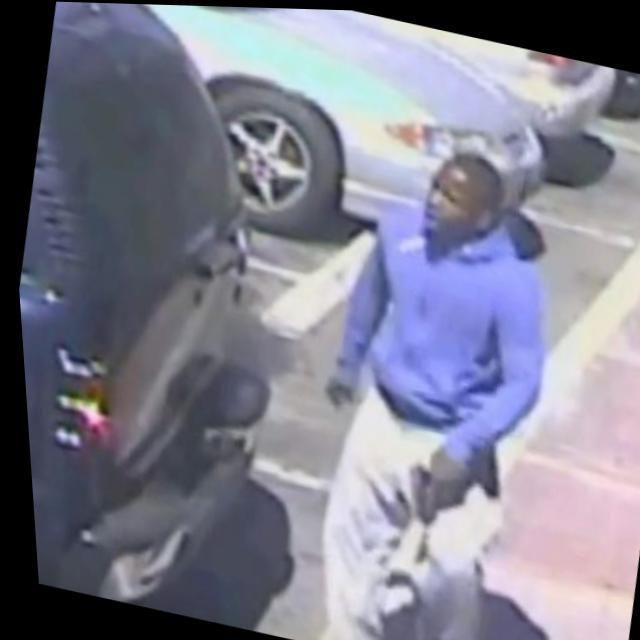weapon: (394, 454, 449, 529)
